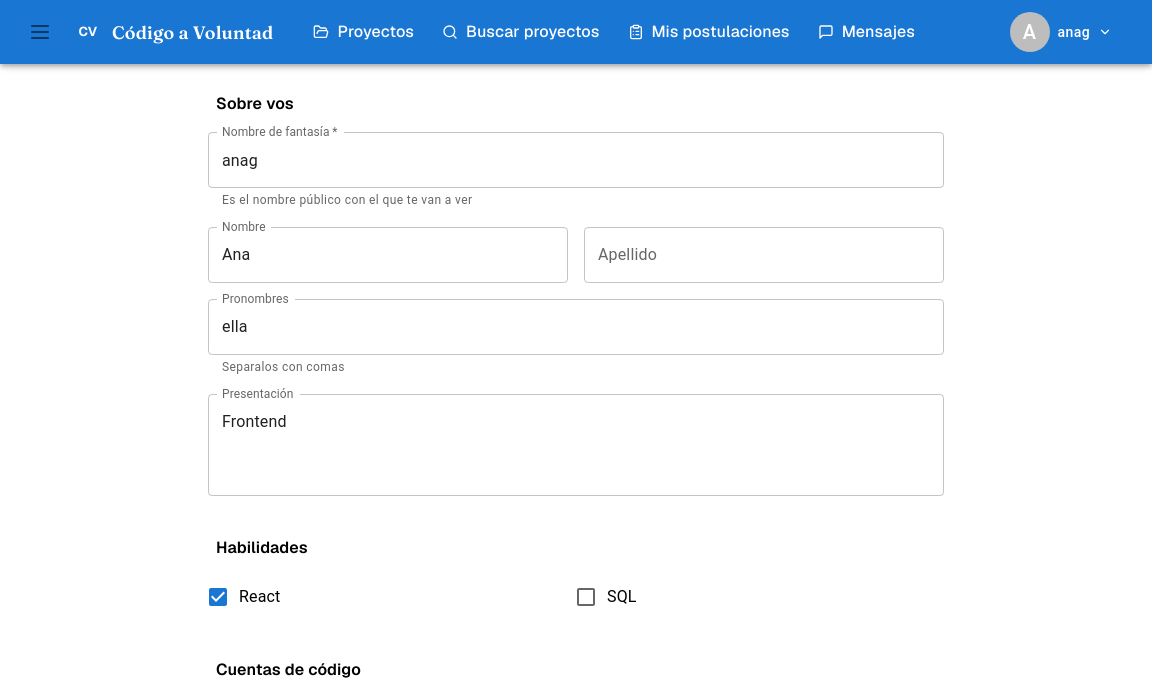
MiPerfil › carga el perfil, guarda los cambios conservando el id de los medios y actualiza el nombre de la navbar
Expected: the checkbox labelled "React" is checked, [206, 585, 280, 609]
Expected: the checkbox labelled "SQL" is not checked, [574, 585, 637, 609]
Replace the text in the field labelled "Nombre de fantasía *" with "ana.dev": (576, 160) [208, 132, 944, 188]
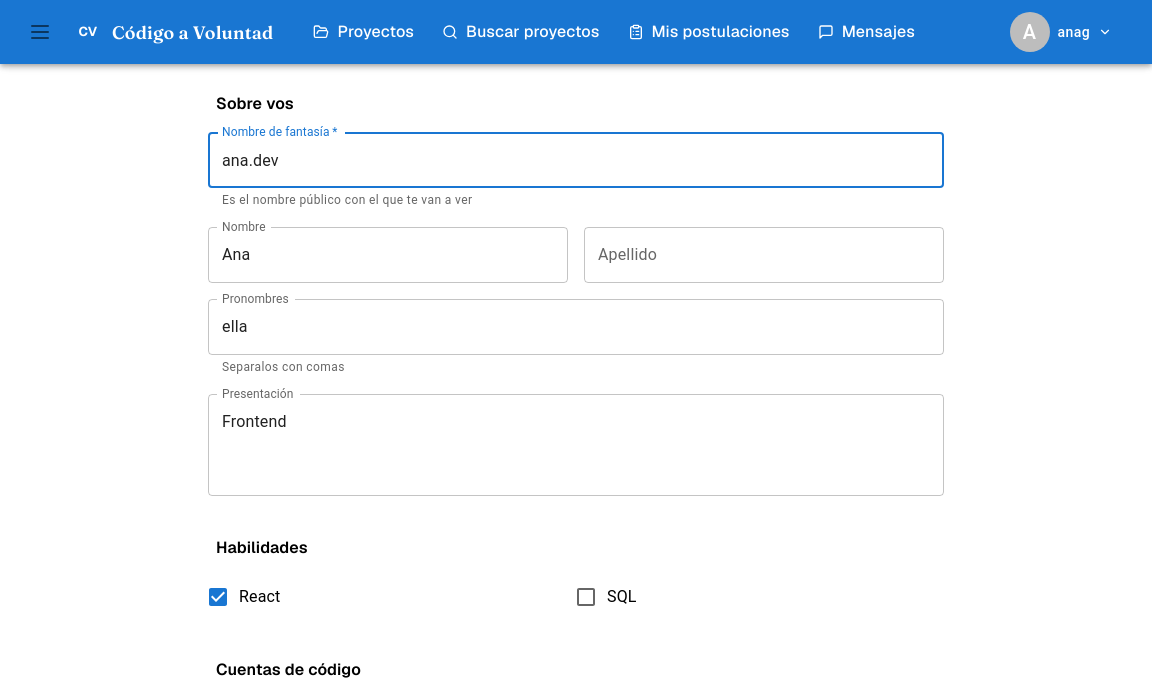
Replace the text in the text box labelled "Presentación" with "Frontend y accesibilidad": (576, 445) [222, 410, 930, 479]
(page scrolled)
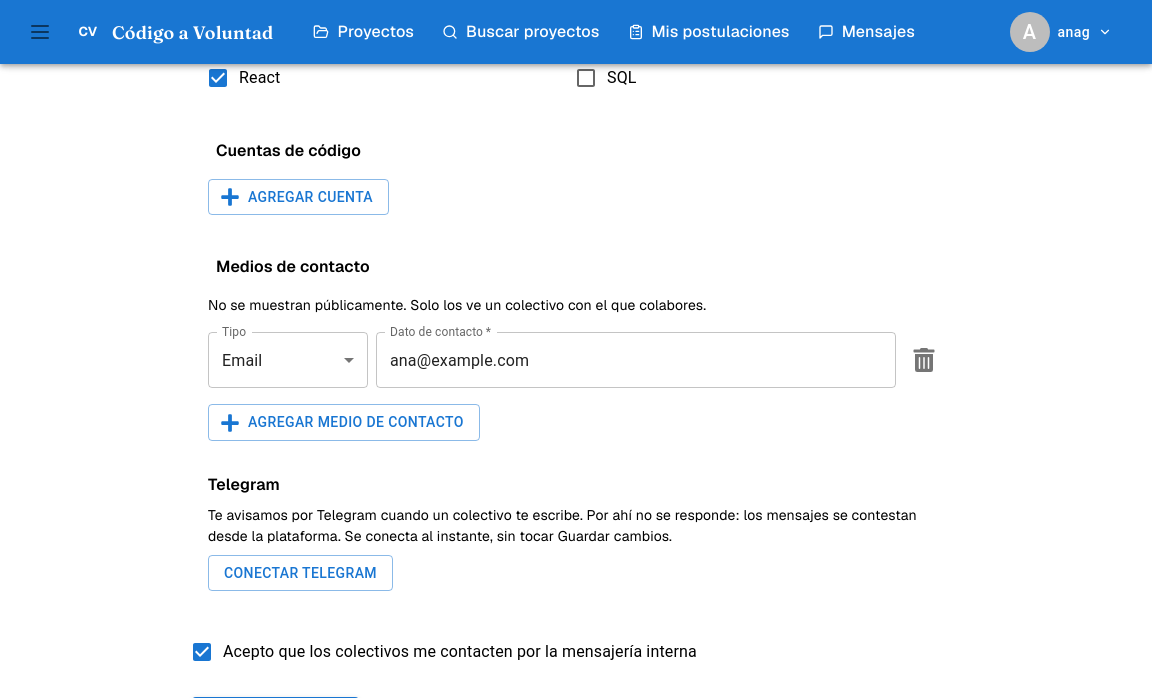
Replace the text in the field labelled "Dato de contacto *" with "ana@ejemplo.com": (636, 360) [376, 332, 896, 388]
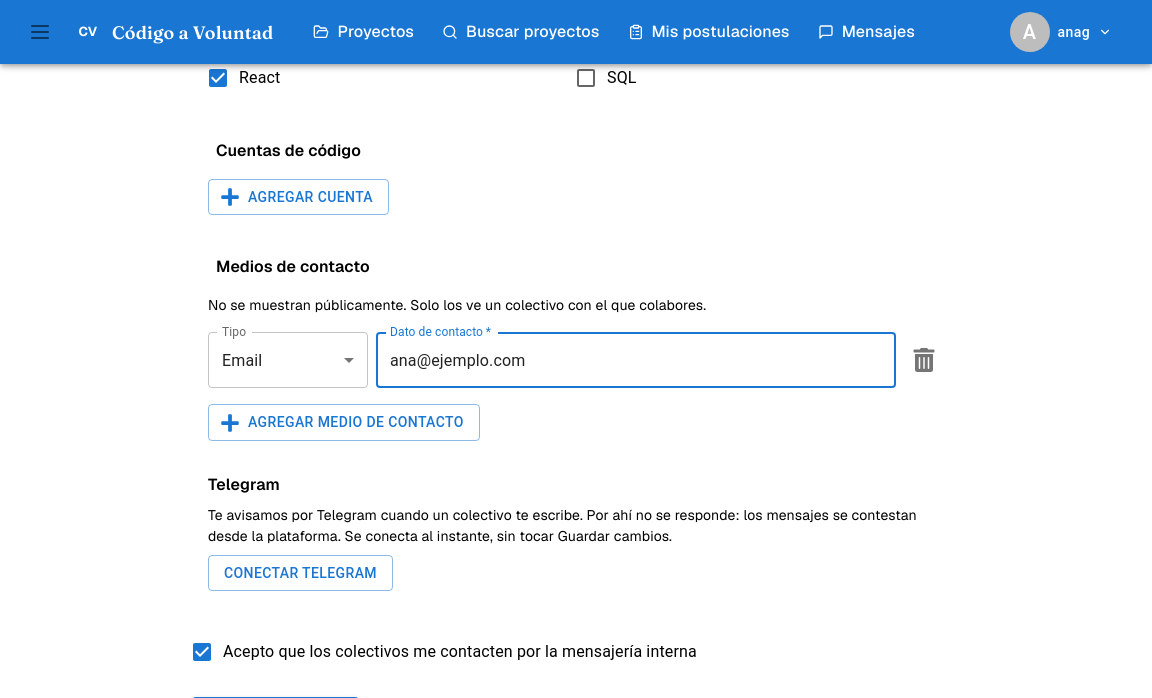
Click the button "Agregar medio de contacto": (344, 423) [208, 404, 480, 441]
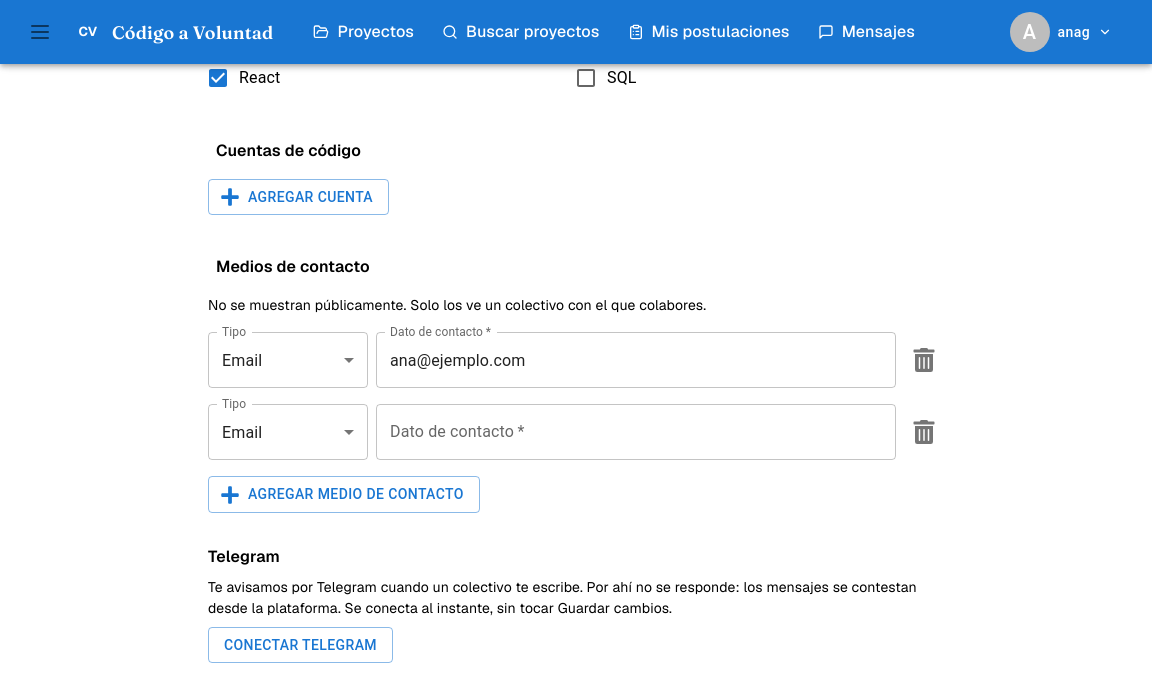
In the 2nd field labelled "Dato de contacto *": (636, 432) [376, 404, 896, 460], type "ana.gomez@example.com"
(page scrolled)
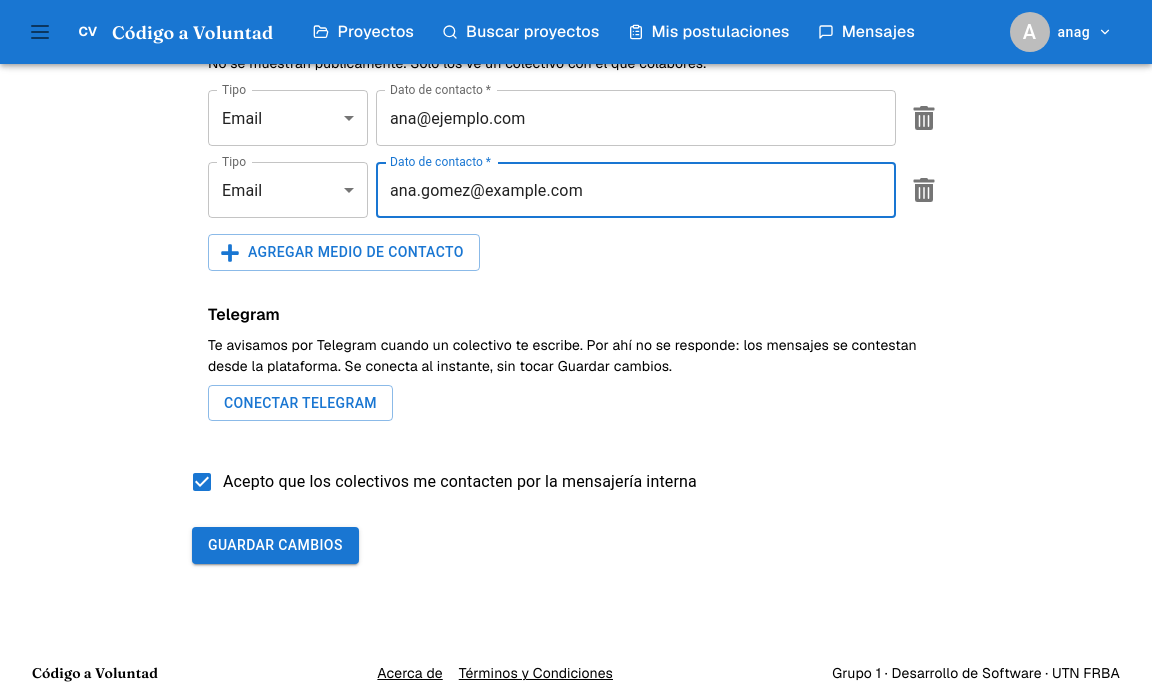
Click the button "Guardar cambios": (275, 546) [192, 527, 359, 564]
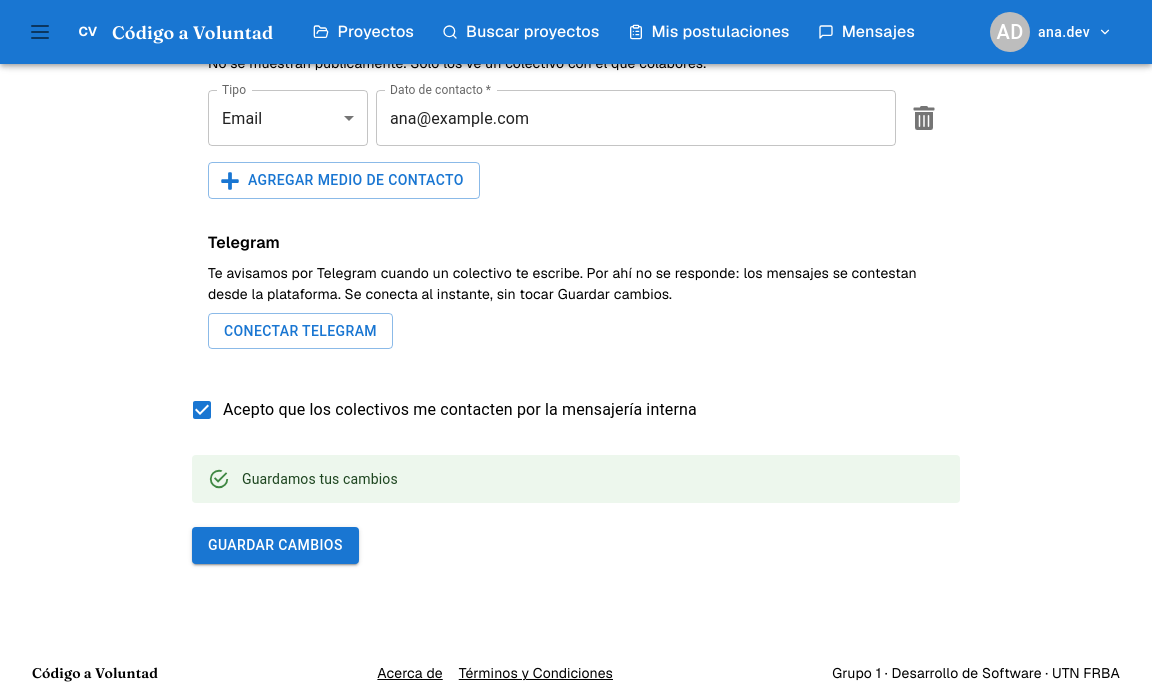
Now the message reads "Guardamos tus cambios", box [242, 471, 398, 487]
Now the text "ana.dev" is shown, box [1038, 20, 1090, 44]
